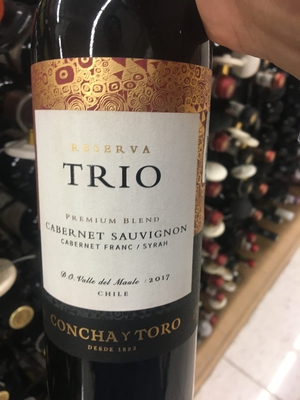trio cabernet sauvignon: (27, 22, 207, 400)
